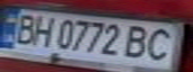0: (51, 16, 75, 51)
2: (103, 20, 127, 57)
7: (84, 19, 106, 55), (69, 17, 90, 52)
B: (121, 24, 157, 61), (6, 11, 42, 45)
C: (139, 26, 187, 62)
H: (27, 15, 57, 47)
